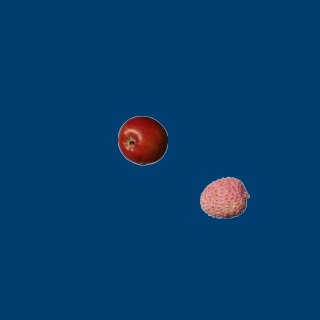Apple Braeburn: (117, 115, 167, 165)
Lychee: (199, 172, 249, 222)
